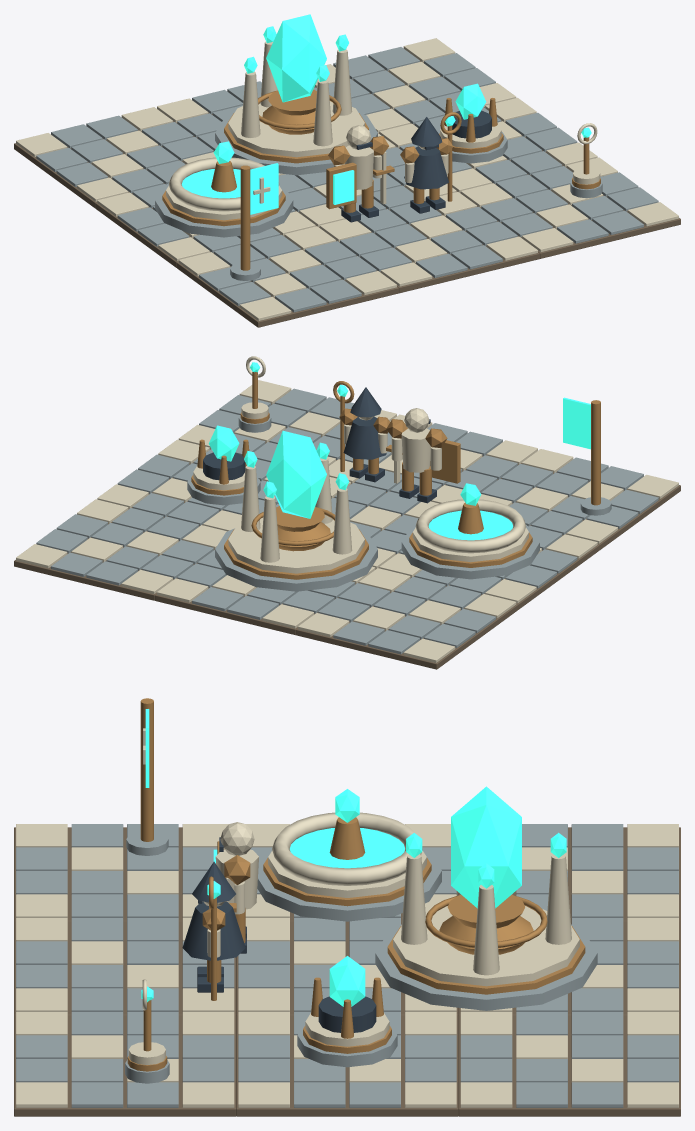
File: sunfall-rift-moba-dawn-sanctuary-63db605f__22006.glb
3 views of the same model, one above another, from view 1: azimuth 30°, elevation 25°; view 2: azimuth 150°, elevation 25°; view 3: azimuth 270°, elevation 25° (orthographic). The views are drawn at different scales.
Visible parts, largest first — view 1: 008-lane-tile/2, 005-lane-tile/2, 000-lane-tile/2, 002-lane-tile/2, 009-teal-core/2, 006-lane-tile/2, 002-lane-tile/1, 009-teal-core/3, 005-lane-tile/1, 007-lane-tile/2, 000-lane-tile/1, 008-lane-tile/1 (+32 smaller); view 2: 000-lane-tile/2, 006-lane-tile/2, 009-teal-core/2, 002-lane-tile/2, 000-lane-tile/1, 006-lane-tile/1, 009-teal-core/3, 008-lane-tile/2, 003-lane-tile/2, 007-lane-tile/2, 010-restoration-fountain/2, 002-lane-tile/1 (+31 smaller); view 3: 006-lane-tile/2, 008-lane-tile/2, 009-teal-core/2, 005-lane-tile/2, 002-lane-tile/2, 007-lane-tile/2, 000-lane-tile/2, 006-lane-tile/1, 009-teal-core/3, 004-lane-tile/2, 008-lane-tile/1, 007-lane-tile/1 (+35 smaller).
Part boxes in pixels (bbox=[...]): 008-lane-tile/2: bbox=[481, 166, 658, 243]; 005-lane-tile/2: bbox=[340, 203, 517, 277]; 000-lane-tile/2: bbox=[36, 115, 213, 193]; 002-lane-tile/2: bbox=[199, 235, 376, 312]; 009-teal-core/2: bbox=[228, 41, 364, 157]; 006-lane-tile/2: bbox=[328, 47, 495, 124]; 002-lane-tile/1: bbox=[178, 226, 396, 320]; 009-teal-core/3: bbox=[244, 14, 348, 102]; 005-lane-tile/1: bbox=[319, 192, 537, 286]; 007-lane-tile/2: bbox=[399, 107, 577, 183]; 000-lane-tile/1: bbox=[16, 107, 215, 201]; 008-lane-tile/1: bbox=[460, 157, 678, 252]; 000-lane-tile/2: bbox=[318, 576, 495, 654]; 006-lane-tile/2: bbox=[36, 508, 213, 585]; 009-teal-core/2: bbox=[228, 457, 364, 573]; 002-lane-tile/2: bbox=[481, 457, 658, 534]; 000-lane-tile/1: bbox=[298, 568, 516, 662]; 006-lane-tile/1: bbox=[16, 499, 226, 593]; 009-teal-core/3: bbox=[244, 430, 349, 518]; 008-lane-tile/2: bbox=[199, 388, 354, 462]; 003-lane-tile/2: bbox=[177, 550, 354, 619]; 007-lane-tile/2: bbox=[117, 449, 278, 525]; 010-restoration-fountain/2: bbox=[412, 499, 528, 562]; 002-lane-tile/1: bbox=[479, 449, 678, 543]; 006-lane-tile/2: bbox=[460, 1012, 678, 1107]; 008-lane-tile/2: bbox=[16, 1012, 234, 1107]; 009-teal-core/2: bbox=[393, 854, 579, 986]; 005-lane-tile/2: bbox=[16, 918, 234, 1011]; 002-lane-tile/2: bbox=[16, 824, 217, 917]; 007-lane-tile/2: bbox=[238, 1012, 456, 1107]; 000-lane-tile/2: bbox=[512, 824, 678, 917]; 006-lane-tile/1: bbox=[460, 1012, 678, 1107]; 009-teal-core/3: bbox=[406, 786, 566, 908]; 004-lane-tile/2: bbox=[238, 918, 400, 1011]; 008-lane-tile/1: bbox=[16, 1012, 234, 1107]; 007-lane-tile/1: bbox=[238, 1012, 456, 1107].
Bounding box in the file's own units: 12 × 3.58 × 12.
